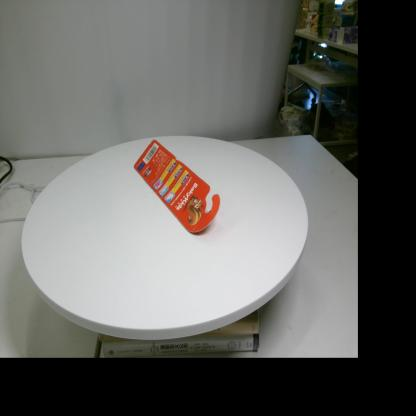Personal Hygiene: (134, 139, 220, 233)
